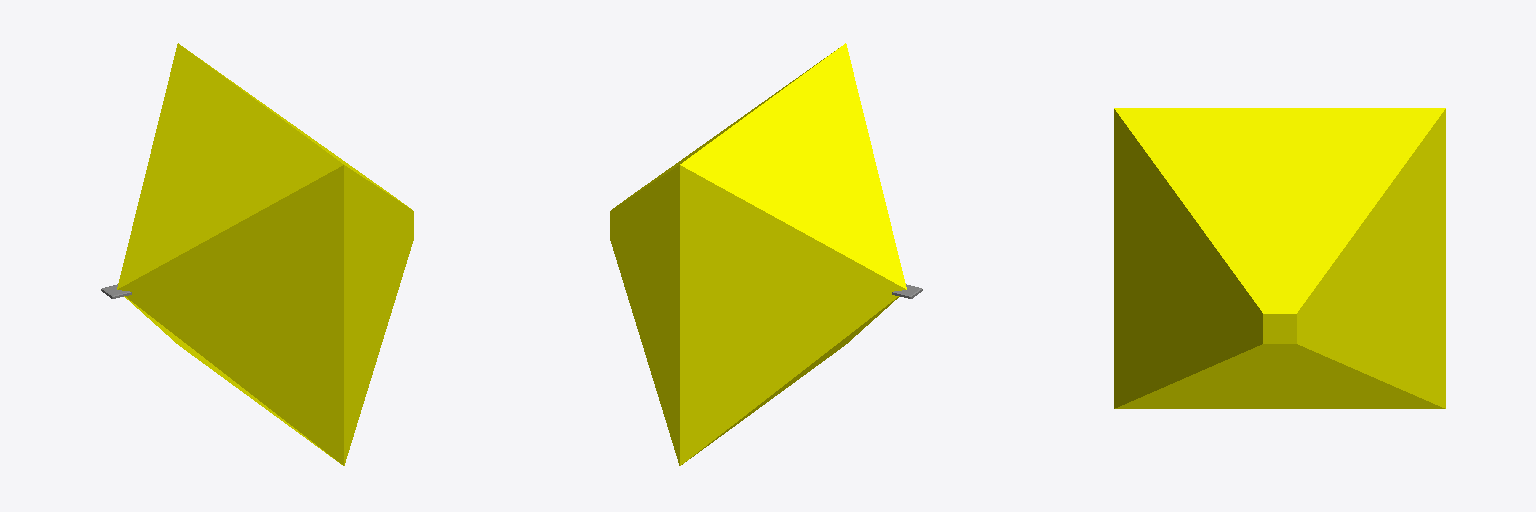
The model's file is mis_obj_MoveFloor7_HD.obj.
3 views of the same model, side by side, from view 1: azimuth 30°, elevation 25°; view 2: azimuth 150°, elevation 25°; view 3: azimuth 270°, elevation 25° (orthographic).
Visible parts, largest first — view 1: wave; view 2: wave; view 3: wave.
Part boxes in pixels (x1,y1,x2,y2): wave: (117,43,413,465); wave: (610,43,906,465); wave: (1114,108,1445,408).
Size of the model in its own units: 3725 by 3600 by 3600.